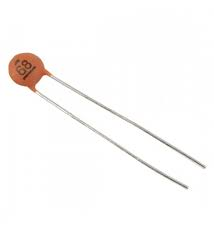ceramic capacitor: (3, 41, 68, 119)
